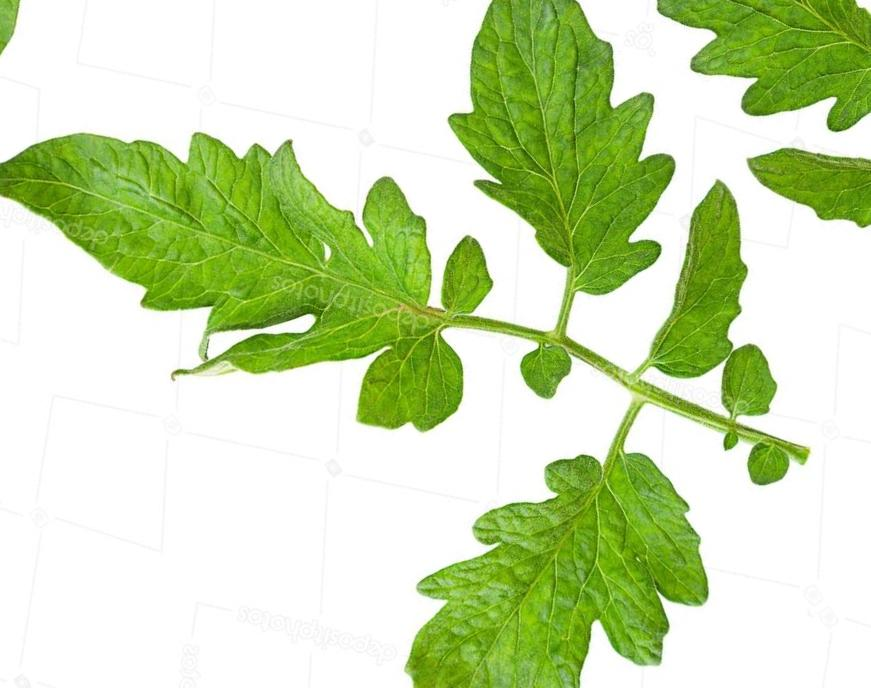Tomato leaf: (0, 0, 561, 596), (316, 398, 759, 688), (359, 0, 741, 318), (568, 168, 819, 411)
